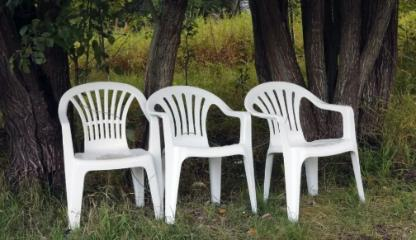chair: (244, 75, 374, 222), (53, 77, 167, 233), (147, 81, 262, 223)
